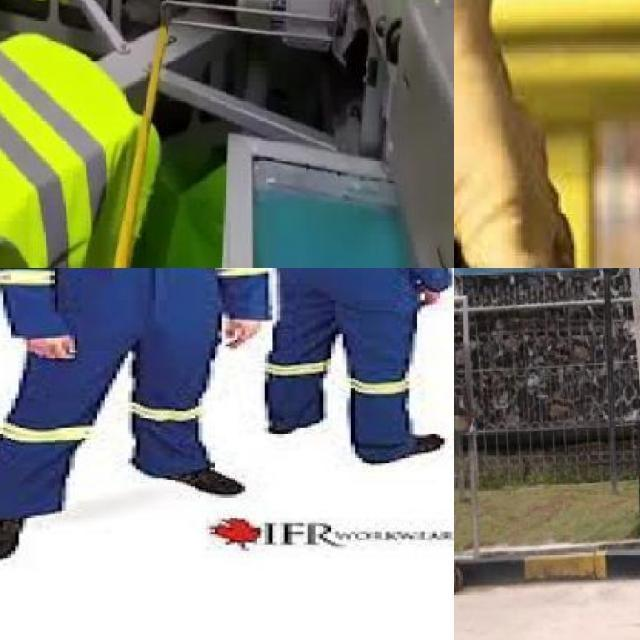apron: (454, 0, 591, 268)
